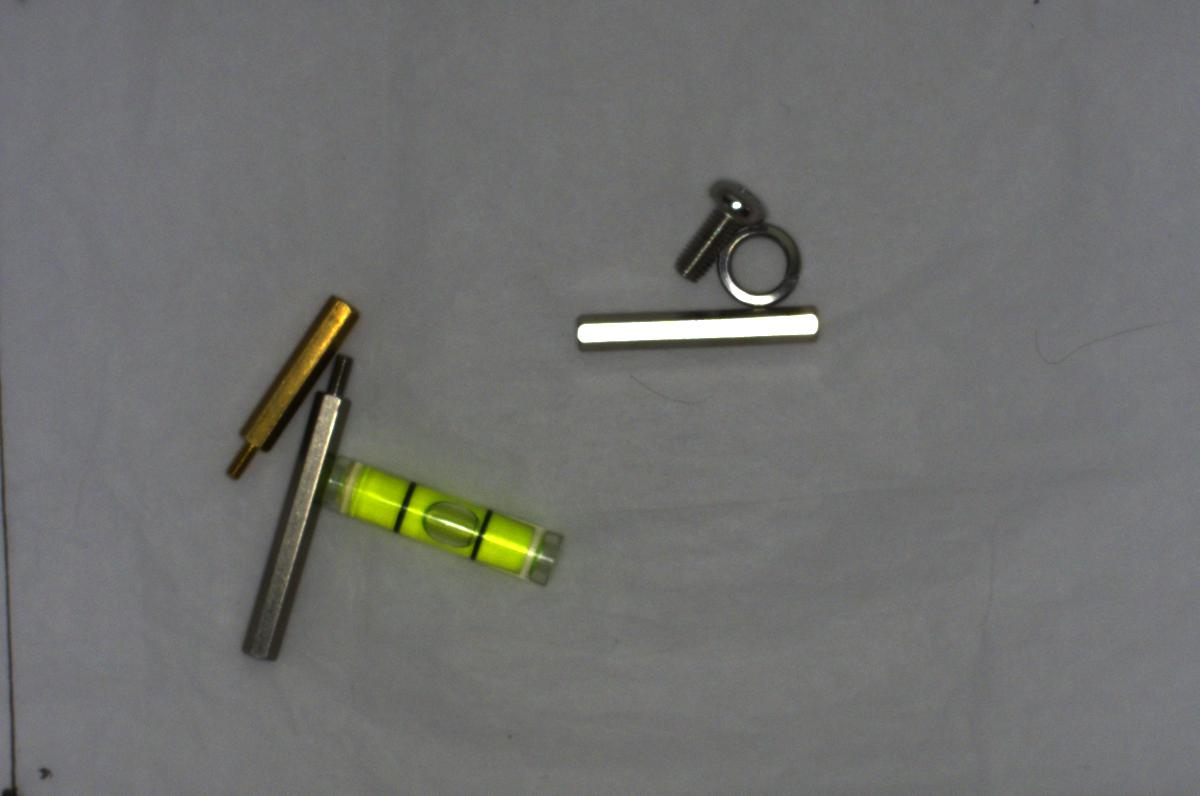Double hexagonal column: (565, 301, 835, 352)
Hexagon pillar: (211, 290, 368, 489)
Hexagonal steel column: (237, 350, 354, 663)
Horizontal bubble: (321, 455, 568, 585)
Round head screw: (668, 172, 765, 282)
Spring washer: (710, 225, 818, 315)
